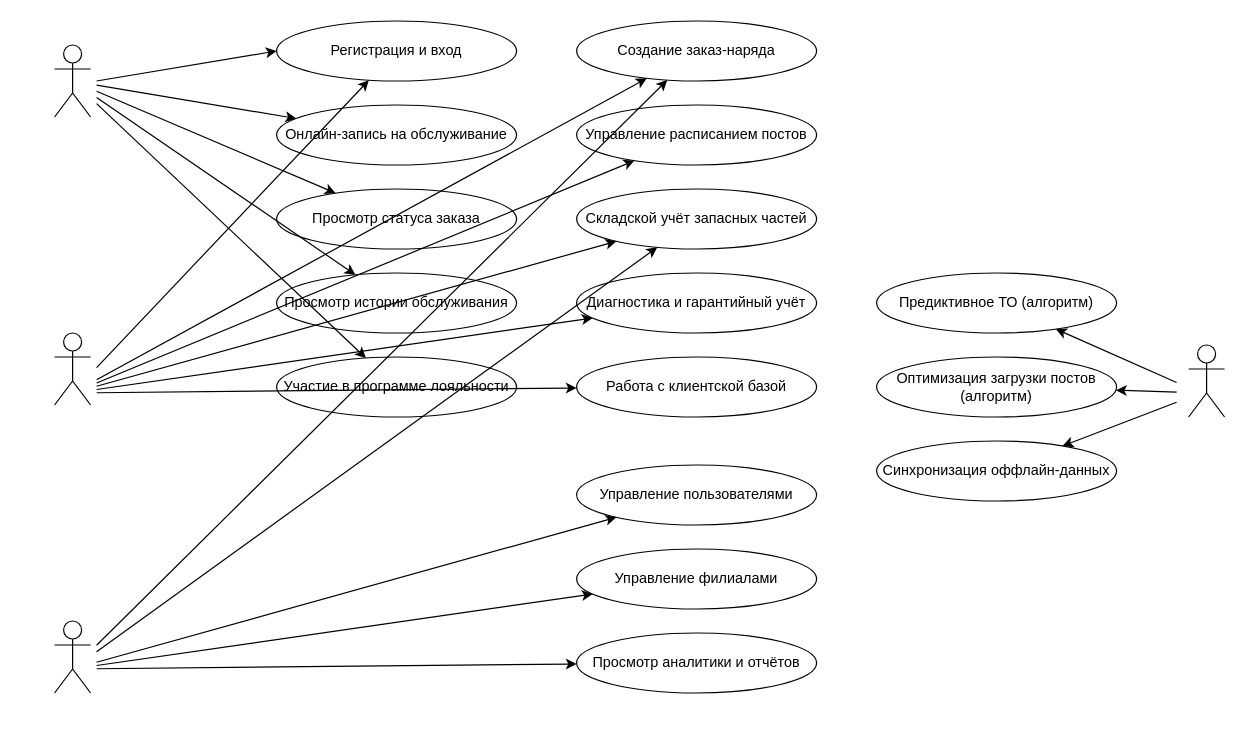
The diagram is 1256 pixels wide and 739 high, and some of its shapes have lost their labels. The centre of each missing label's shape, as x and y in pixels:
Администратор: the point at 72,656
Клиент: the point at 72,80
Менеджер: the point at 72,368
Система: the point at 1206,380
